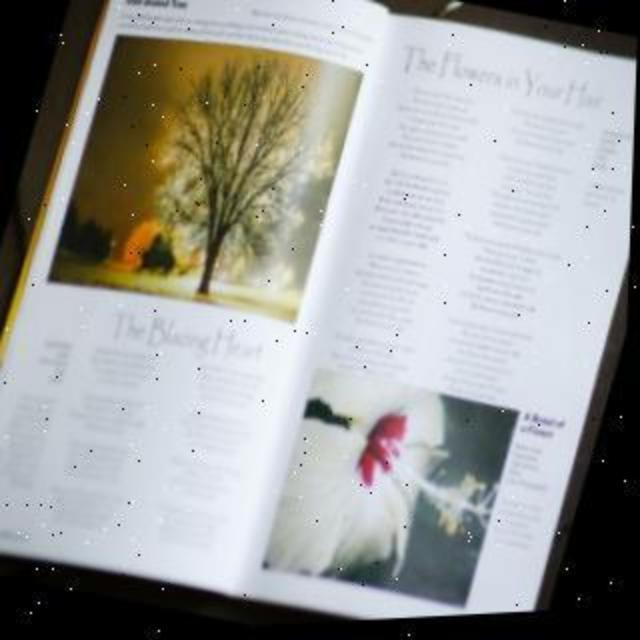book: (24, 0, 640, 638)
